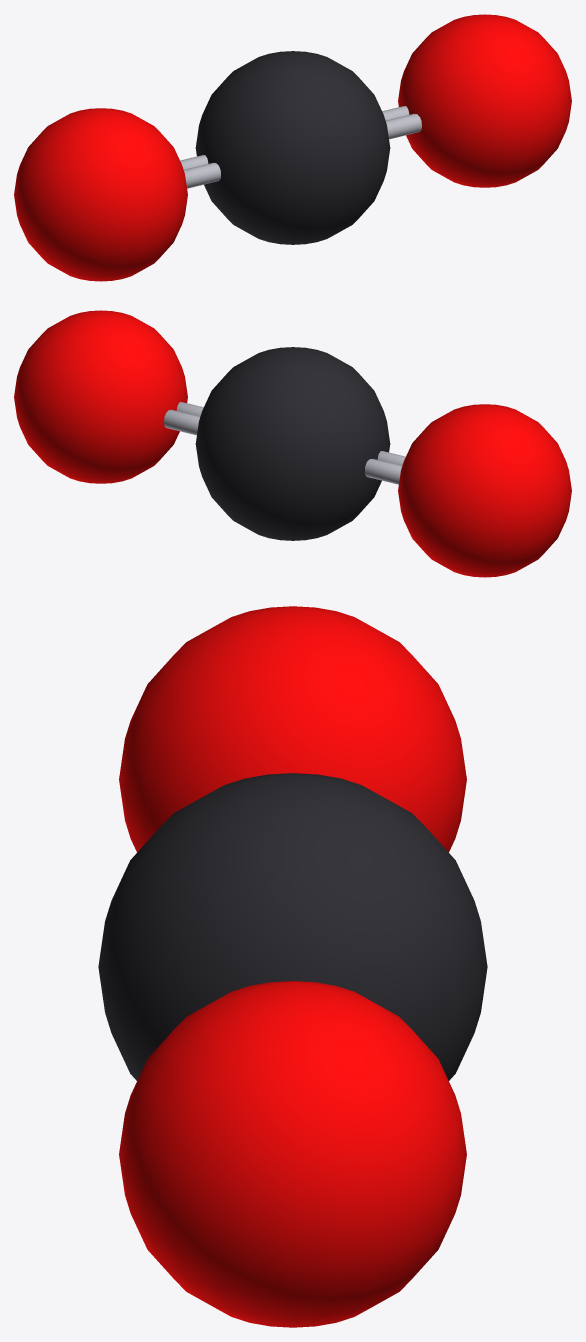
Rendered from carbon-dioxide.glb.
3 views of the same model, one above another, from view 1: azimuth 30°, elevation 25°; view 2: azimuth 150°, elevation 25°; view 3: azimuth 270°, elevation 25° (orthographic). The views are drawn at different scales.
Parts seen in each view (by area): view 1: C1, O0, O2, bond0-1, bond1-1; view 2: C1, O0, O2, bond0-0, bond1-0; view 3: O2, C1, O0.
Part boxes in pixels (x1,y1,x2,y2): C1: (195, 51, 390, 244); O0: (14, 108, 187, 281); O2: (398, 14, 571, 187); bond0-1: (183, 162, 220, 188); bond1-1: (386, 113, 421, 139); C1: (195, 347, 390, 540); O0: (398, 404, 571, 577); O2: (14, 310, 187, 483); bond0-0: (365, 458, 402, 484); bond1-0: (164, 409, 199, 435); O2: (119, 981, 466, 1327); C1: (98, 773, 487, 1080); O0: (119, 606, 466, 852).
Bounding box in the file's own units: 3.24 × 1.02 × 1.02.
